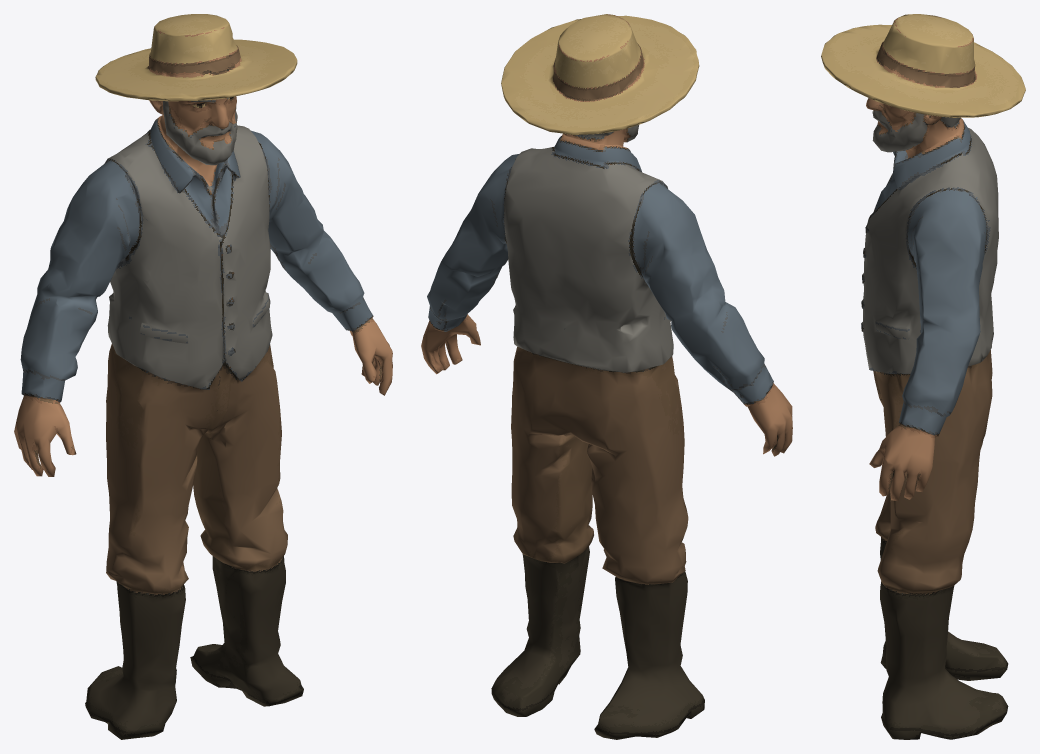
File: chacarero.glb
3 renders of one model, left to right at view 1: azimuth 30°, elevation 25°; view 2: azimuth 150°, elevation 25°; view 3: azimuth 270°, elevation 25°, orthographic.
Visible parts, largest first — view 1: tripo_node_d944a91f-e8ae-4792-8410-da65d039ba12; view 2: tripo_node_d944a91f-e8ae-4792-8410-da65d039ba12; view 3: tripo_node_d944a91f-e8ae-4792-8410-da65d039ba12.
Boxes of the visible parts, box(x1,y1,x2,y2) form: tripo_node_d944a91f-e8ae-4792-8410-da65d039ba12: box(14, 14, 392, 739); tripo_node_d944a91f-e8ae-4792-8410-da65d039ba12: box(421, 14, 792, 739); tripo_node_d944a91f-e8ae-4792-8410-da65d039ba12: box(821, 14, 1025, 739).
Bounding box in the file's own units: 0.5595 × 1 × 0.2754.
Materials: 1 (1 with a texture image).
